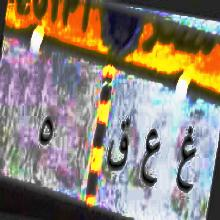5: (34, 104, 58, 162)
ain: (139, 116, 164, 194)
ghayn: (174, 114, 197, 201)
qaaf: (108, 108, 132, 178)
